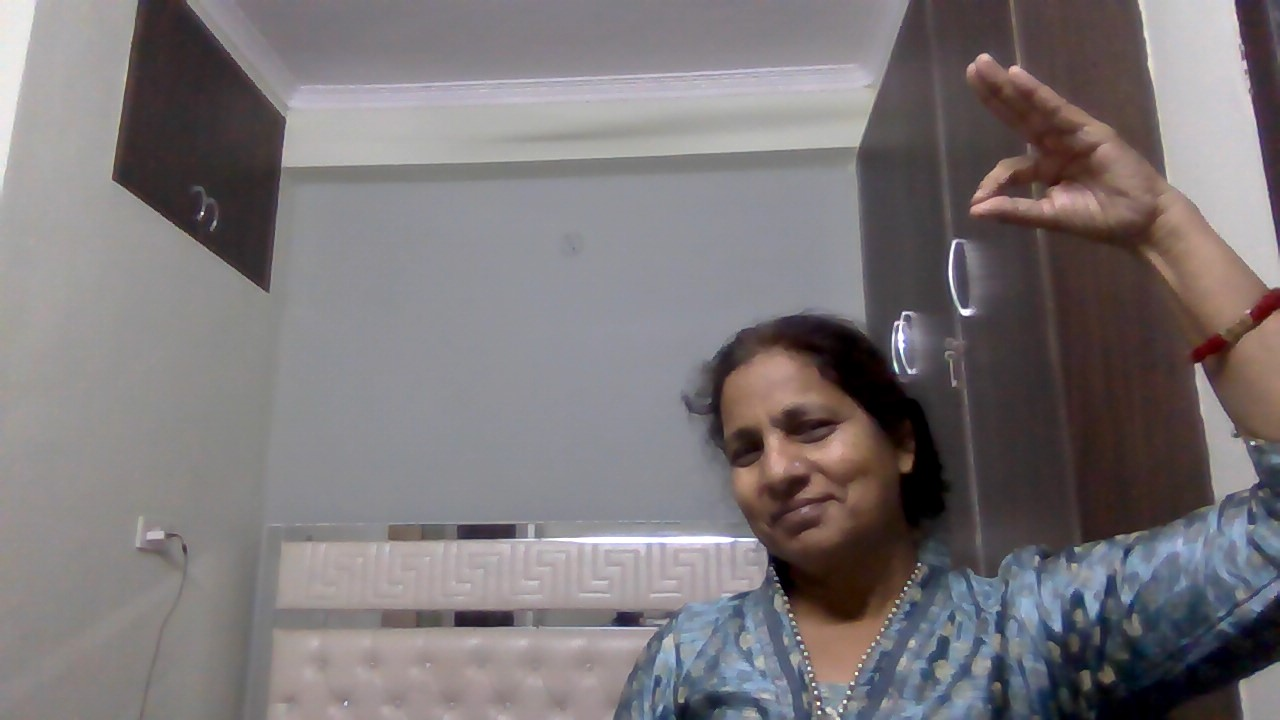Copy: (945, 41, 1173, 279)
